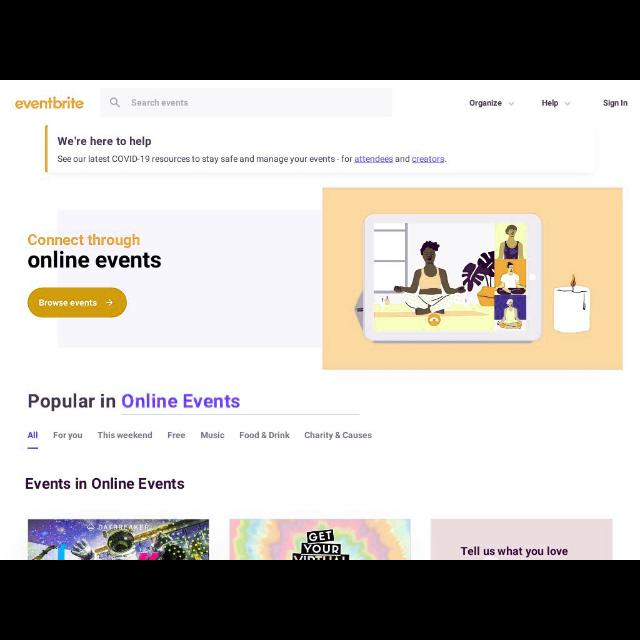button: (28, 288, 128, 318)
icon: (110, 97, 120, 109), (105, 299, 113, 307), (507, 101, 515, 107), (564, 101, 572, 107)
image: (323, 187, 622, 369), (28, 519, 208, 559), (432, 519, 612, 559), (230, 520, 410, 558), (15, 95, 86, 111)
input: (100, 89, 394, 118)
multitab: (17, 422, 379, 450)
spinner: (468, 98, 516, 110), (542, 98, 572, 110)
text: (28, 232, 162, 268), (56, 154, 448, 166), (27, 393, 241, 413), (24, 476, 186, 490), (58, 134, 152, 148), (304, 431, 374, 441), (38, 298, 98, 308), (131, 98, 189, 108), (96, 430, 154, 440), (240, 432, 290, 441), (52, 431, 84, 441), (470, 100, 502, 108), (201, 430, 225, 440), (603, 99, 629, 108), (166, 431, 188, 439), (542, 100, 560, 108), (27, 430, 39, 440)
toolbar: (1, 81, 639, 123)
